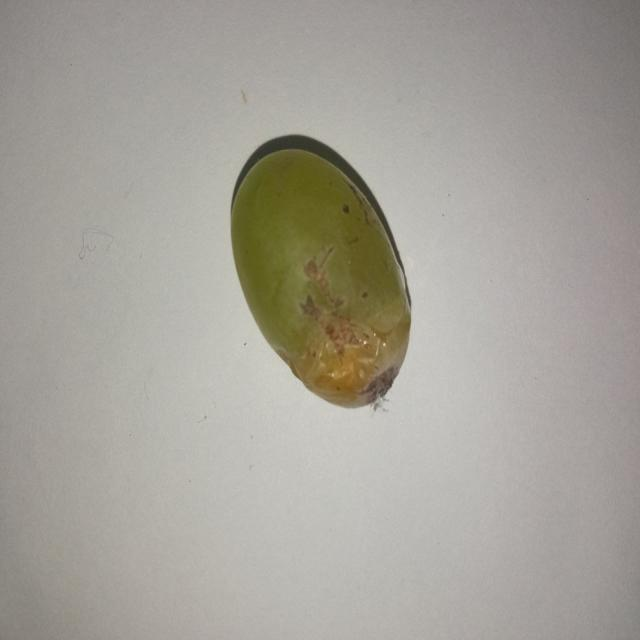rotten_grape: (230, 141, 410, 410)
